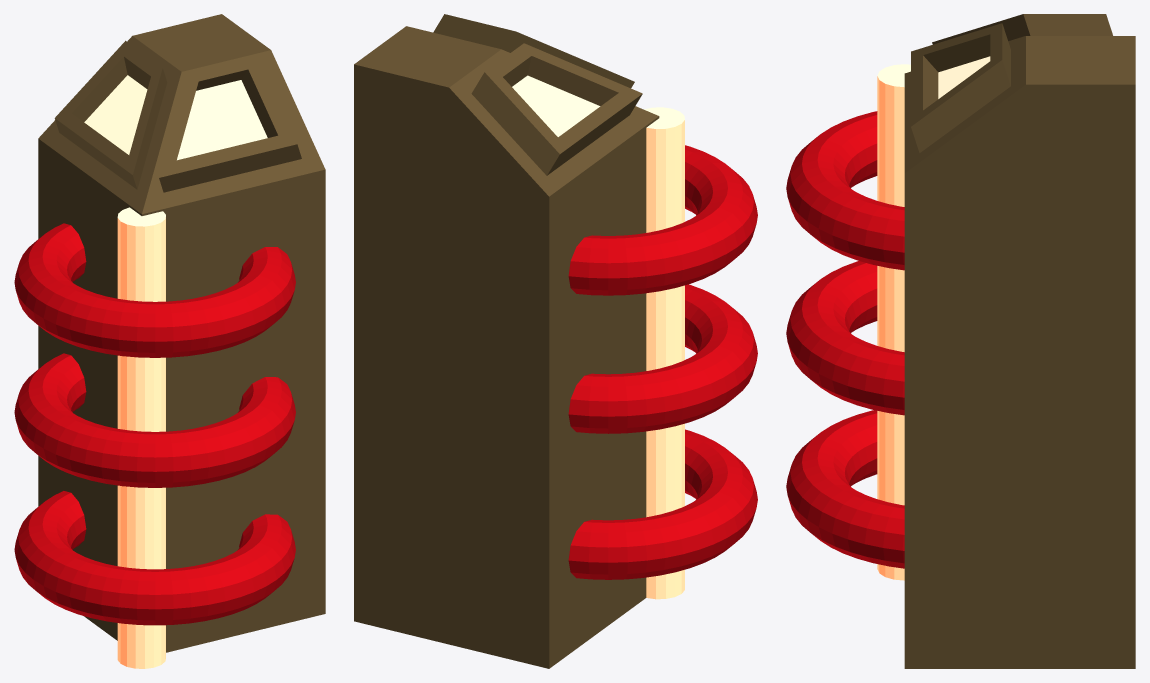
Rendered from Mur-corner.fbx.
3 renders of one model, left to right at view 1: azimuth 30°, elevation 25°; view 2: azimuth 150°, elevation 25°; view 3: azimuth 270°, elevation 25°, orthographic. The views are drawn at different scales.
Parts seen in each view (by area): view 1: Mur-Corner; view 2: Mur-Corner; view 3: Mur-Corner.
Boxes of the visible parts, x1=… form: Mur-Corner: x1=14, y1=14, x2=325, y2=668; Mur-Corner: x1=354, y1=14, x2=757, y2=668; Mur-Corner: x1=786, y1=14, x2=1135, y2=668.
Size of the model in its own units: 414 by 768 by 408.
